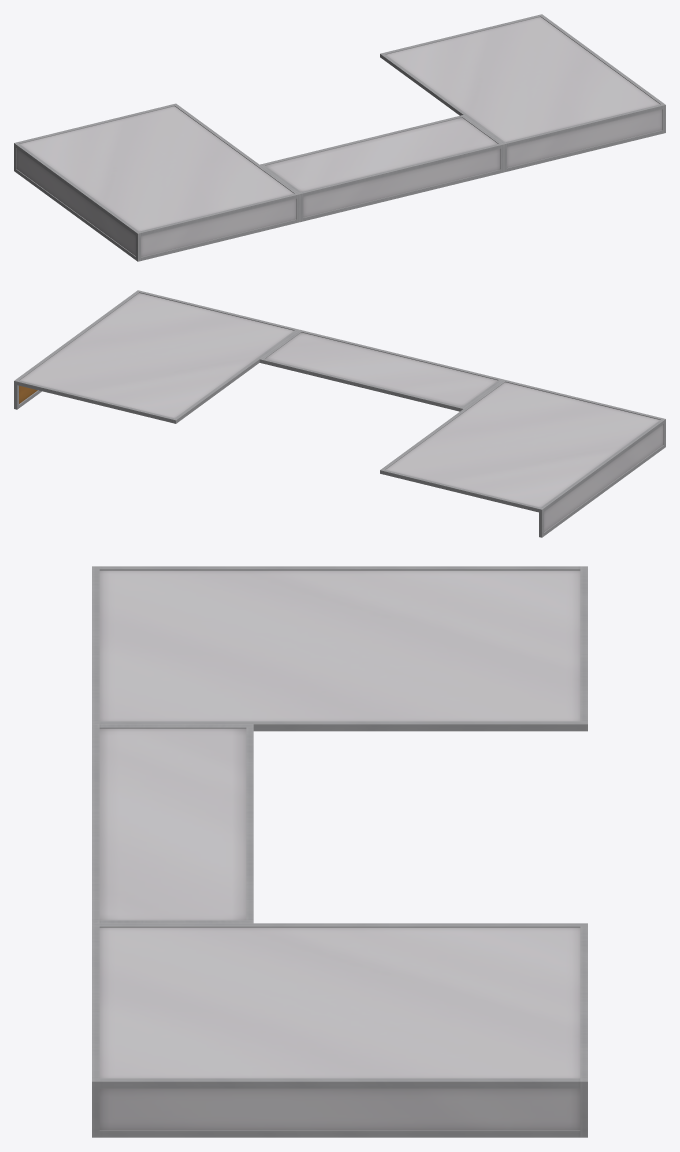
File: jsf_2P_s02_c04_t02_DX.fbx
3 renders of one model, top to bottom at view 1: azimuth 30°, elevation 25°; view 2: azimuth 150°, elevation 25°; view 3: azimuth 270°, elevation 25°, orthographic. The views are drawn at different scales.
Parts seen in each view (by area): view 1: jsf_2P_s02_c04_t02_DX; view 2: jsf_2P_s02_c04_t02_DX; view 3: jsf_2P_s02_c04_t02_DX.
Boxes of the visible parts, bbox=[...] form: jsf_2P_s02_c04_t02_DX: bbox=[14, 14, 665, 261]; jsf_2P_s02_c04_t02_DX: bbox=[14, 290, 665, 537]; jsf_2P_s02_c04_t02_DX: bbox=[92, 566, 587, 1137].
Bounding box in the file's own units: 246 × 12.51 × 100.
